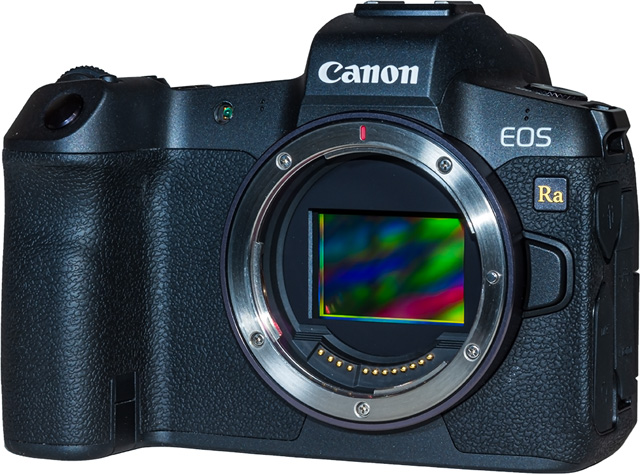camera: (5, 5, 633, 467)
